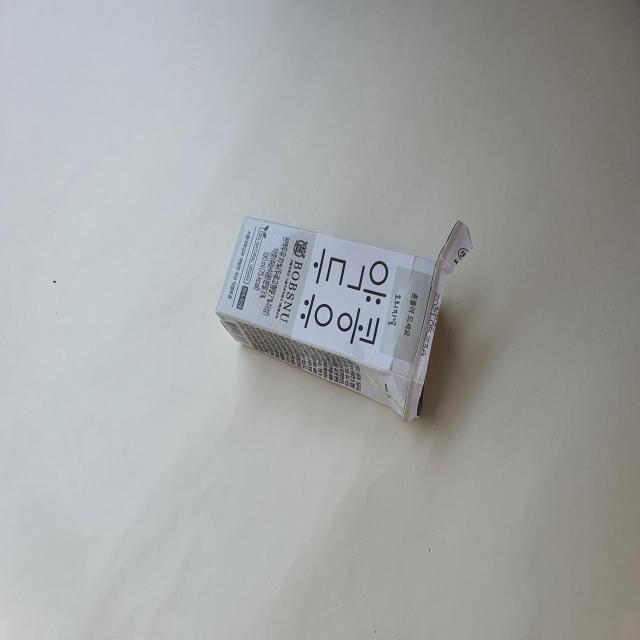paperpack: (215, 216, 473, 422)
